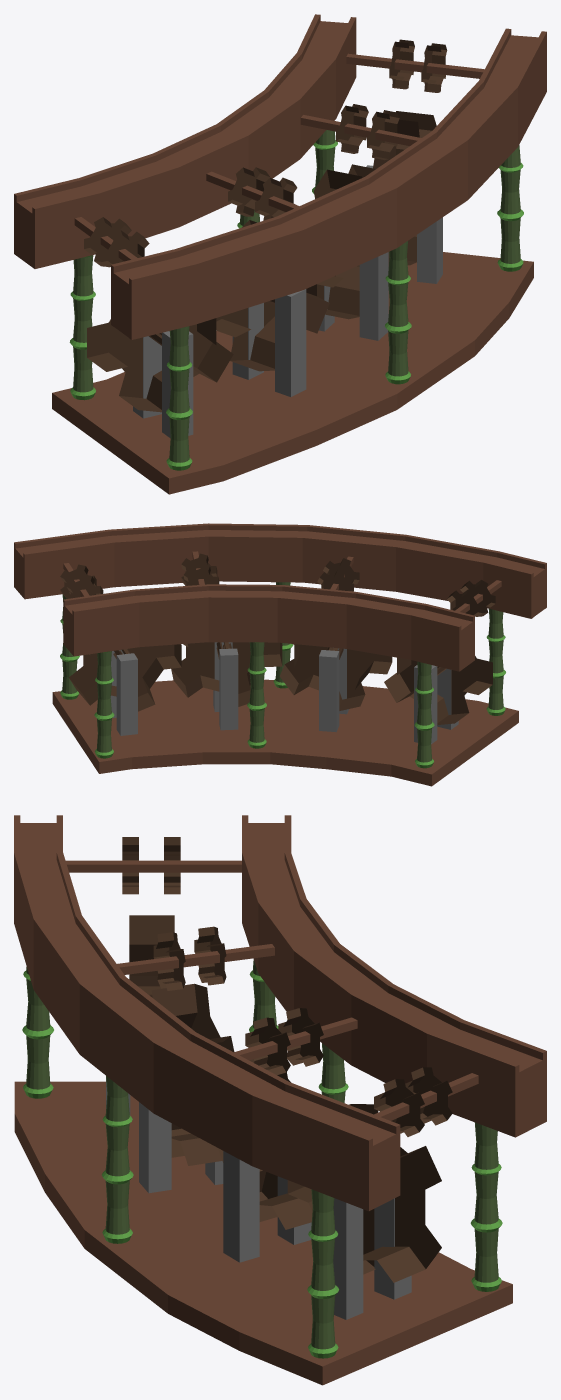
Rendered from rail avec Bambou gauche 2 num 2.fbx.
3 views of the same model, one above another, from view 1: azimuth 30°, elevation 25°; view 2: azimuth 150°, elevation 25°; view 3: azimuth 270°, elevation 25° (orthographic). The views are drawn at different scales.
Visible parts, largest first — view 1: bambou.016; view 2: bambou.016; view 3: bambou.016.
Boxes of the visible parts, left/top/right/bottom form: bambou.016: left=14, top=14, right=546, bottom=494; bambou.016: left=14, top=523, right=546, bottom=786; bambou.016: left=14, top=815, right=546, bottom=1385.
Size of the model in its own units: 1220 by 463 by 845.
